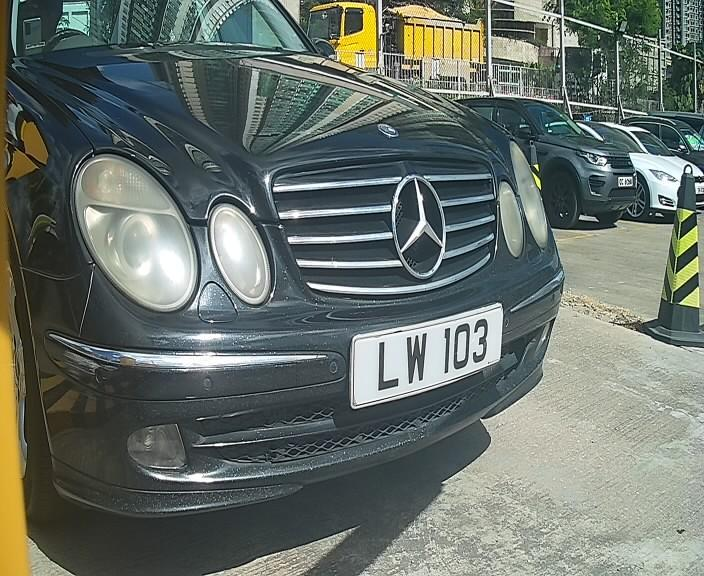License Plate: (346, 307, 507, 402)
